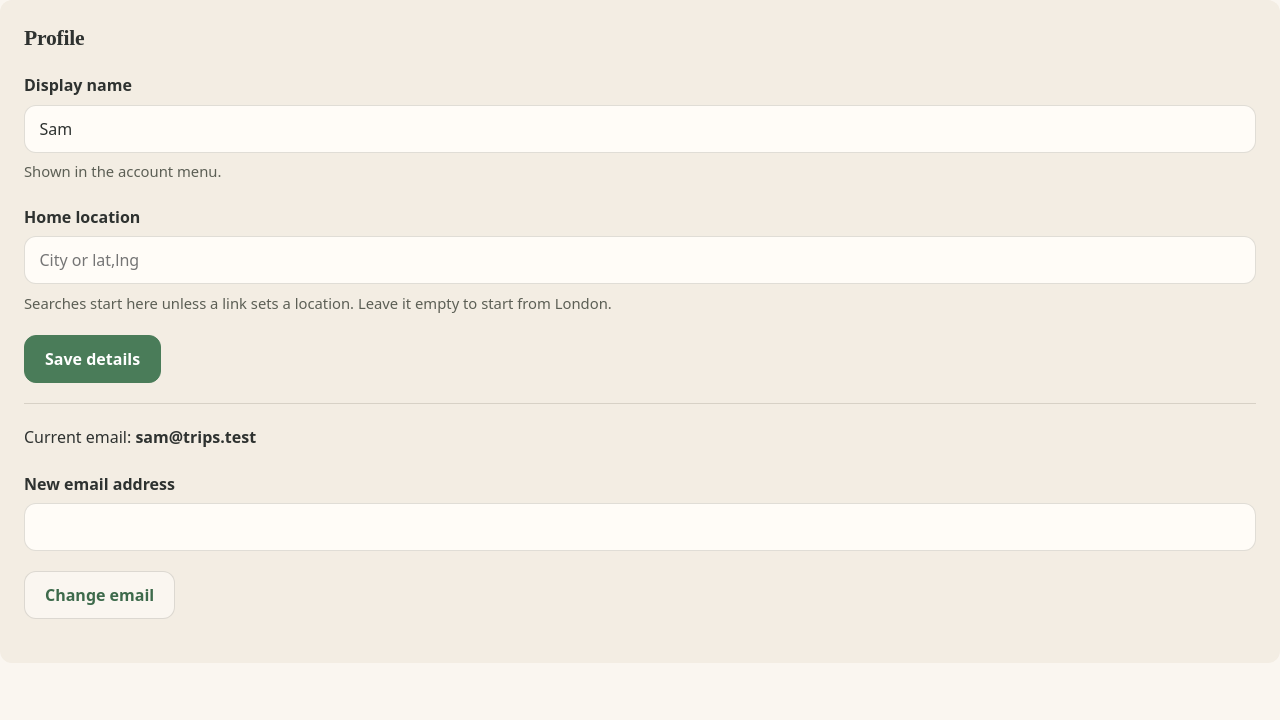
Test: ProfileSection: email › confirms a change from the new address
The width and height of the screenshot is (1280, 720).
Check: the text "sam@trips.test" is shown, box [135, 426, 256, 448]
Type "new@trips.test" into the field labelled "New email address". click: (640, 527)
box: [24, 503, 1256, 551]
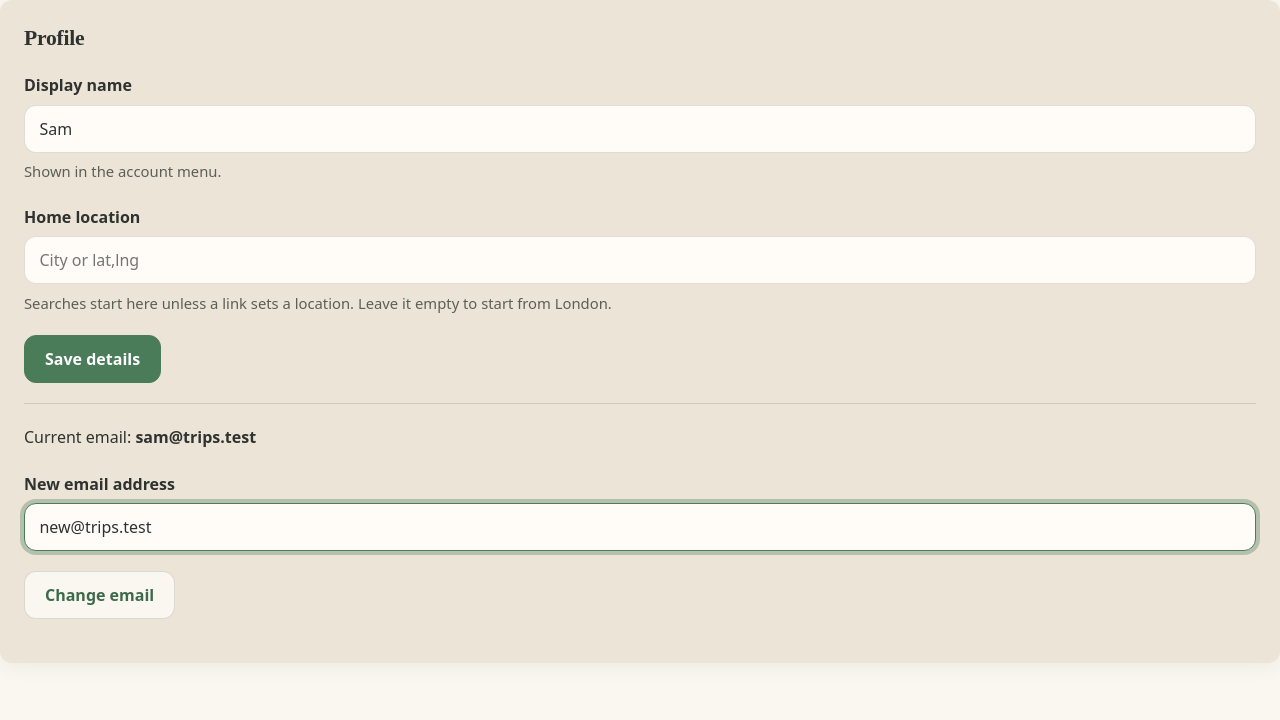
Click the button "Change email". click: click(100, 595)
box: [24, 571, 175, 619]
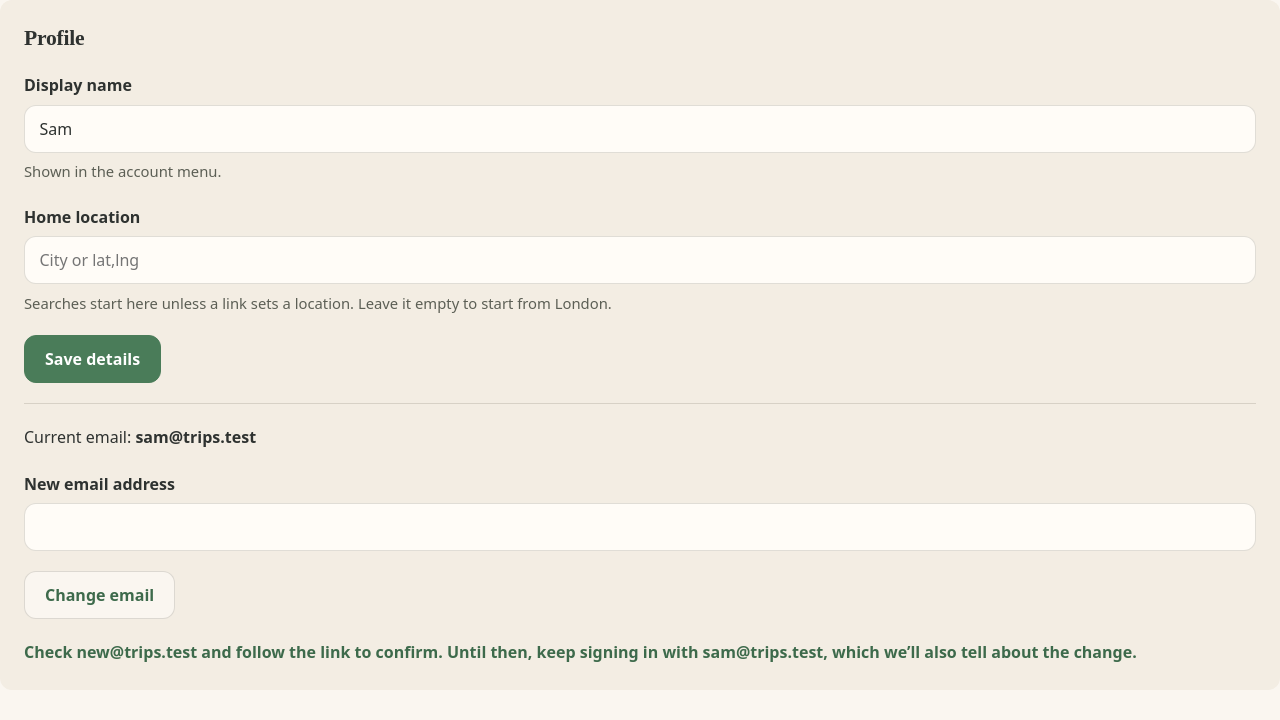
Check: the message shows "Check new@trips.test and follow the link to confirm", box [24, 641, 1137, 663]
Check: the message shows "sam@trips.test", box [24, 641, 1137, 663]
